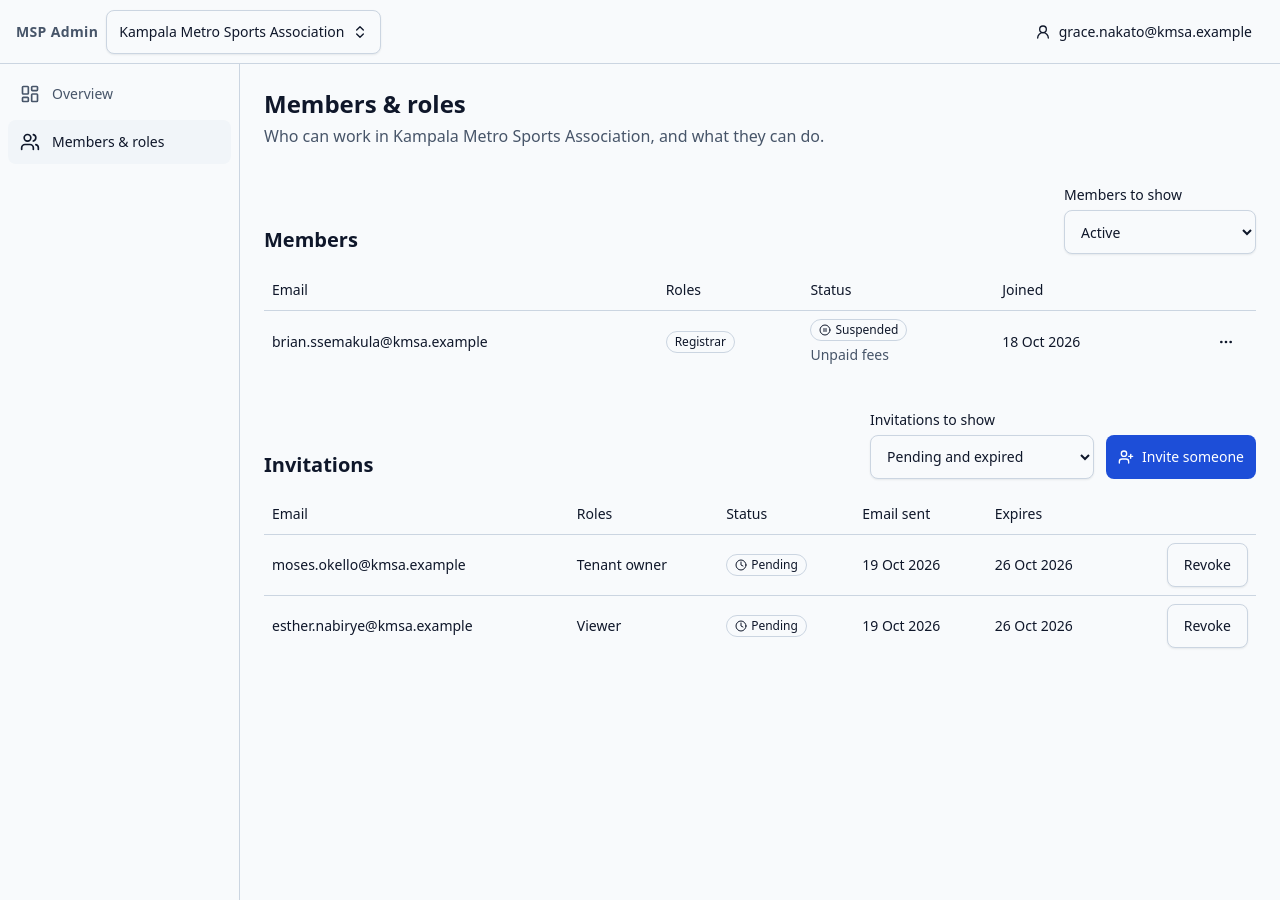
Test: members & roles › offers a suspended member restore, not suspend
Press the mouse on the button named "Change brian.ssemakula@kmsa.example" at point(1226, 342), box [1204, 320, 1248, 364]
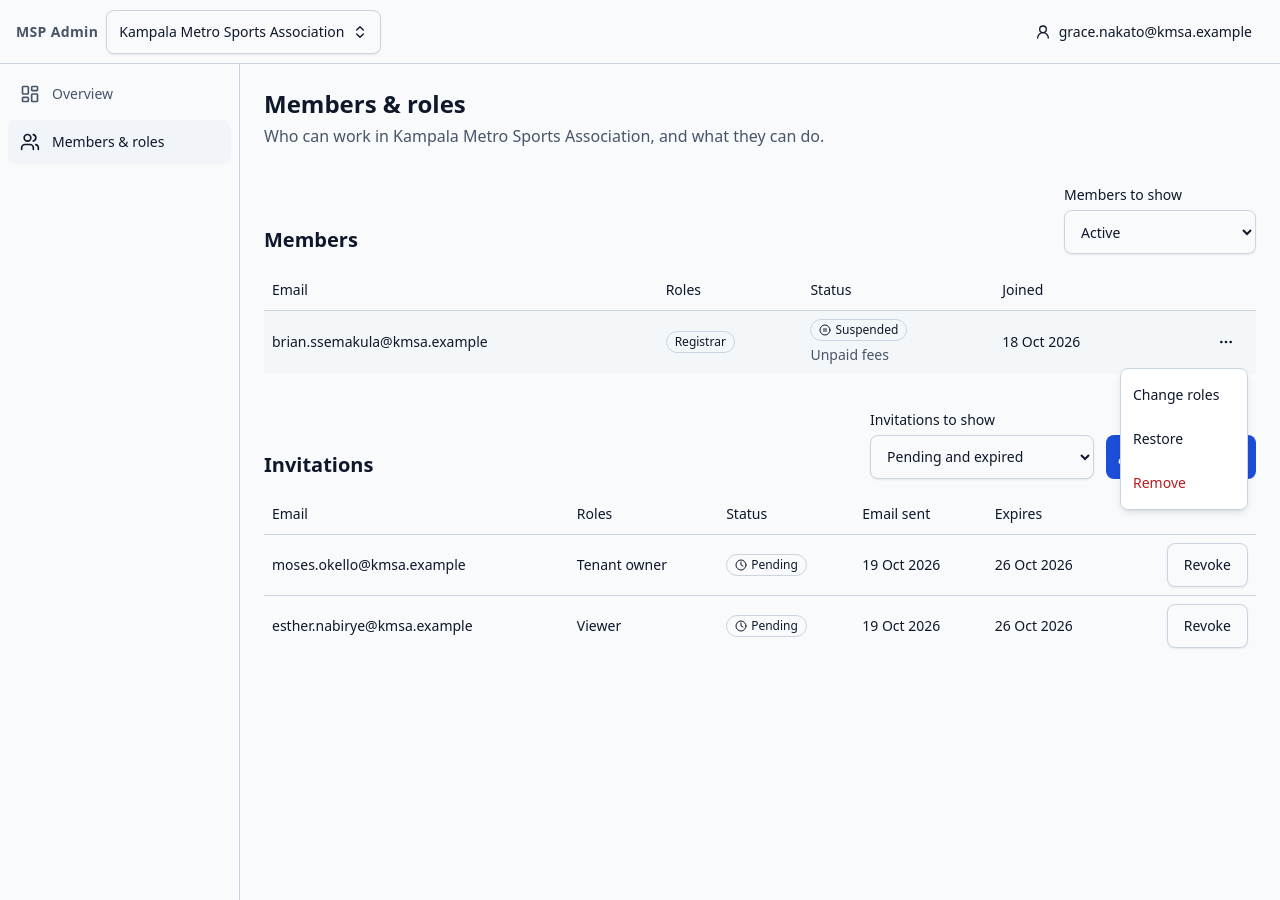
expect the menu item "Restore" is shown: met, box [1133, 429, 1183, 448]
